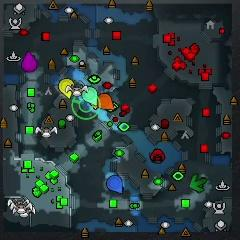p1: (107, 175, 123, 194)
p2: (83, 86, 97, 106)
p3: (20, 52, 37, 72)
p4: (59, 78, 75, 99)
p5: (98, 93, 114, 109)
x4: (189, 173, 207, 193)
